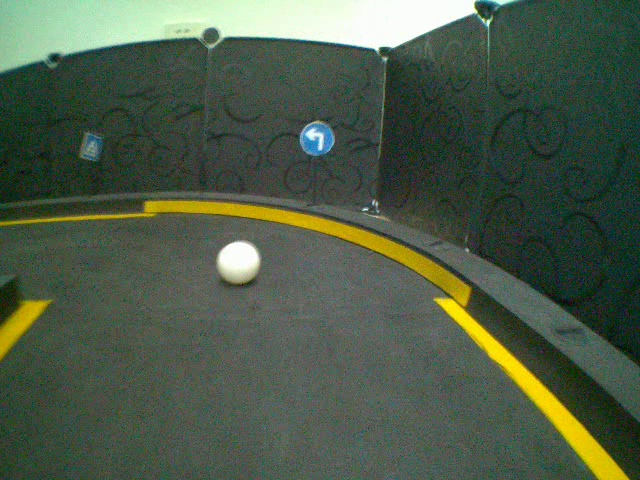ball: (216, 239, 261, 284)
